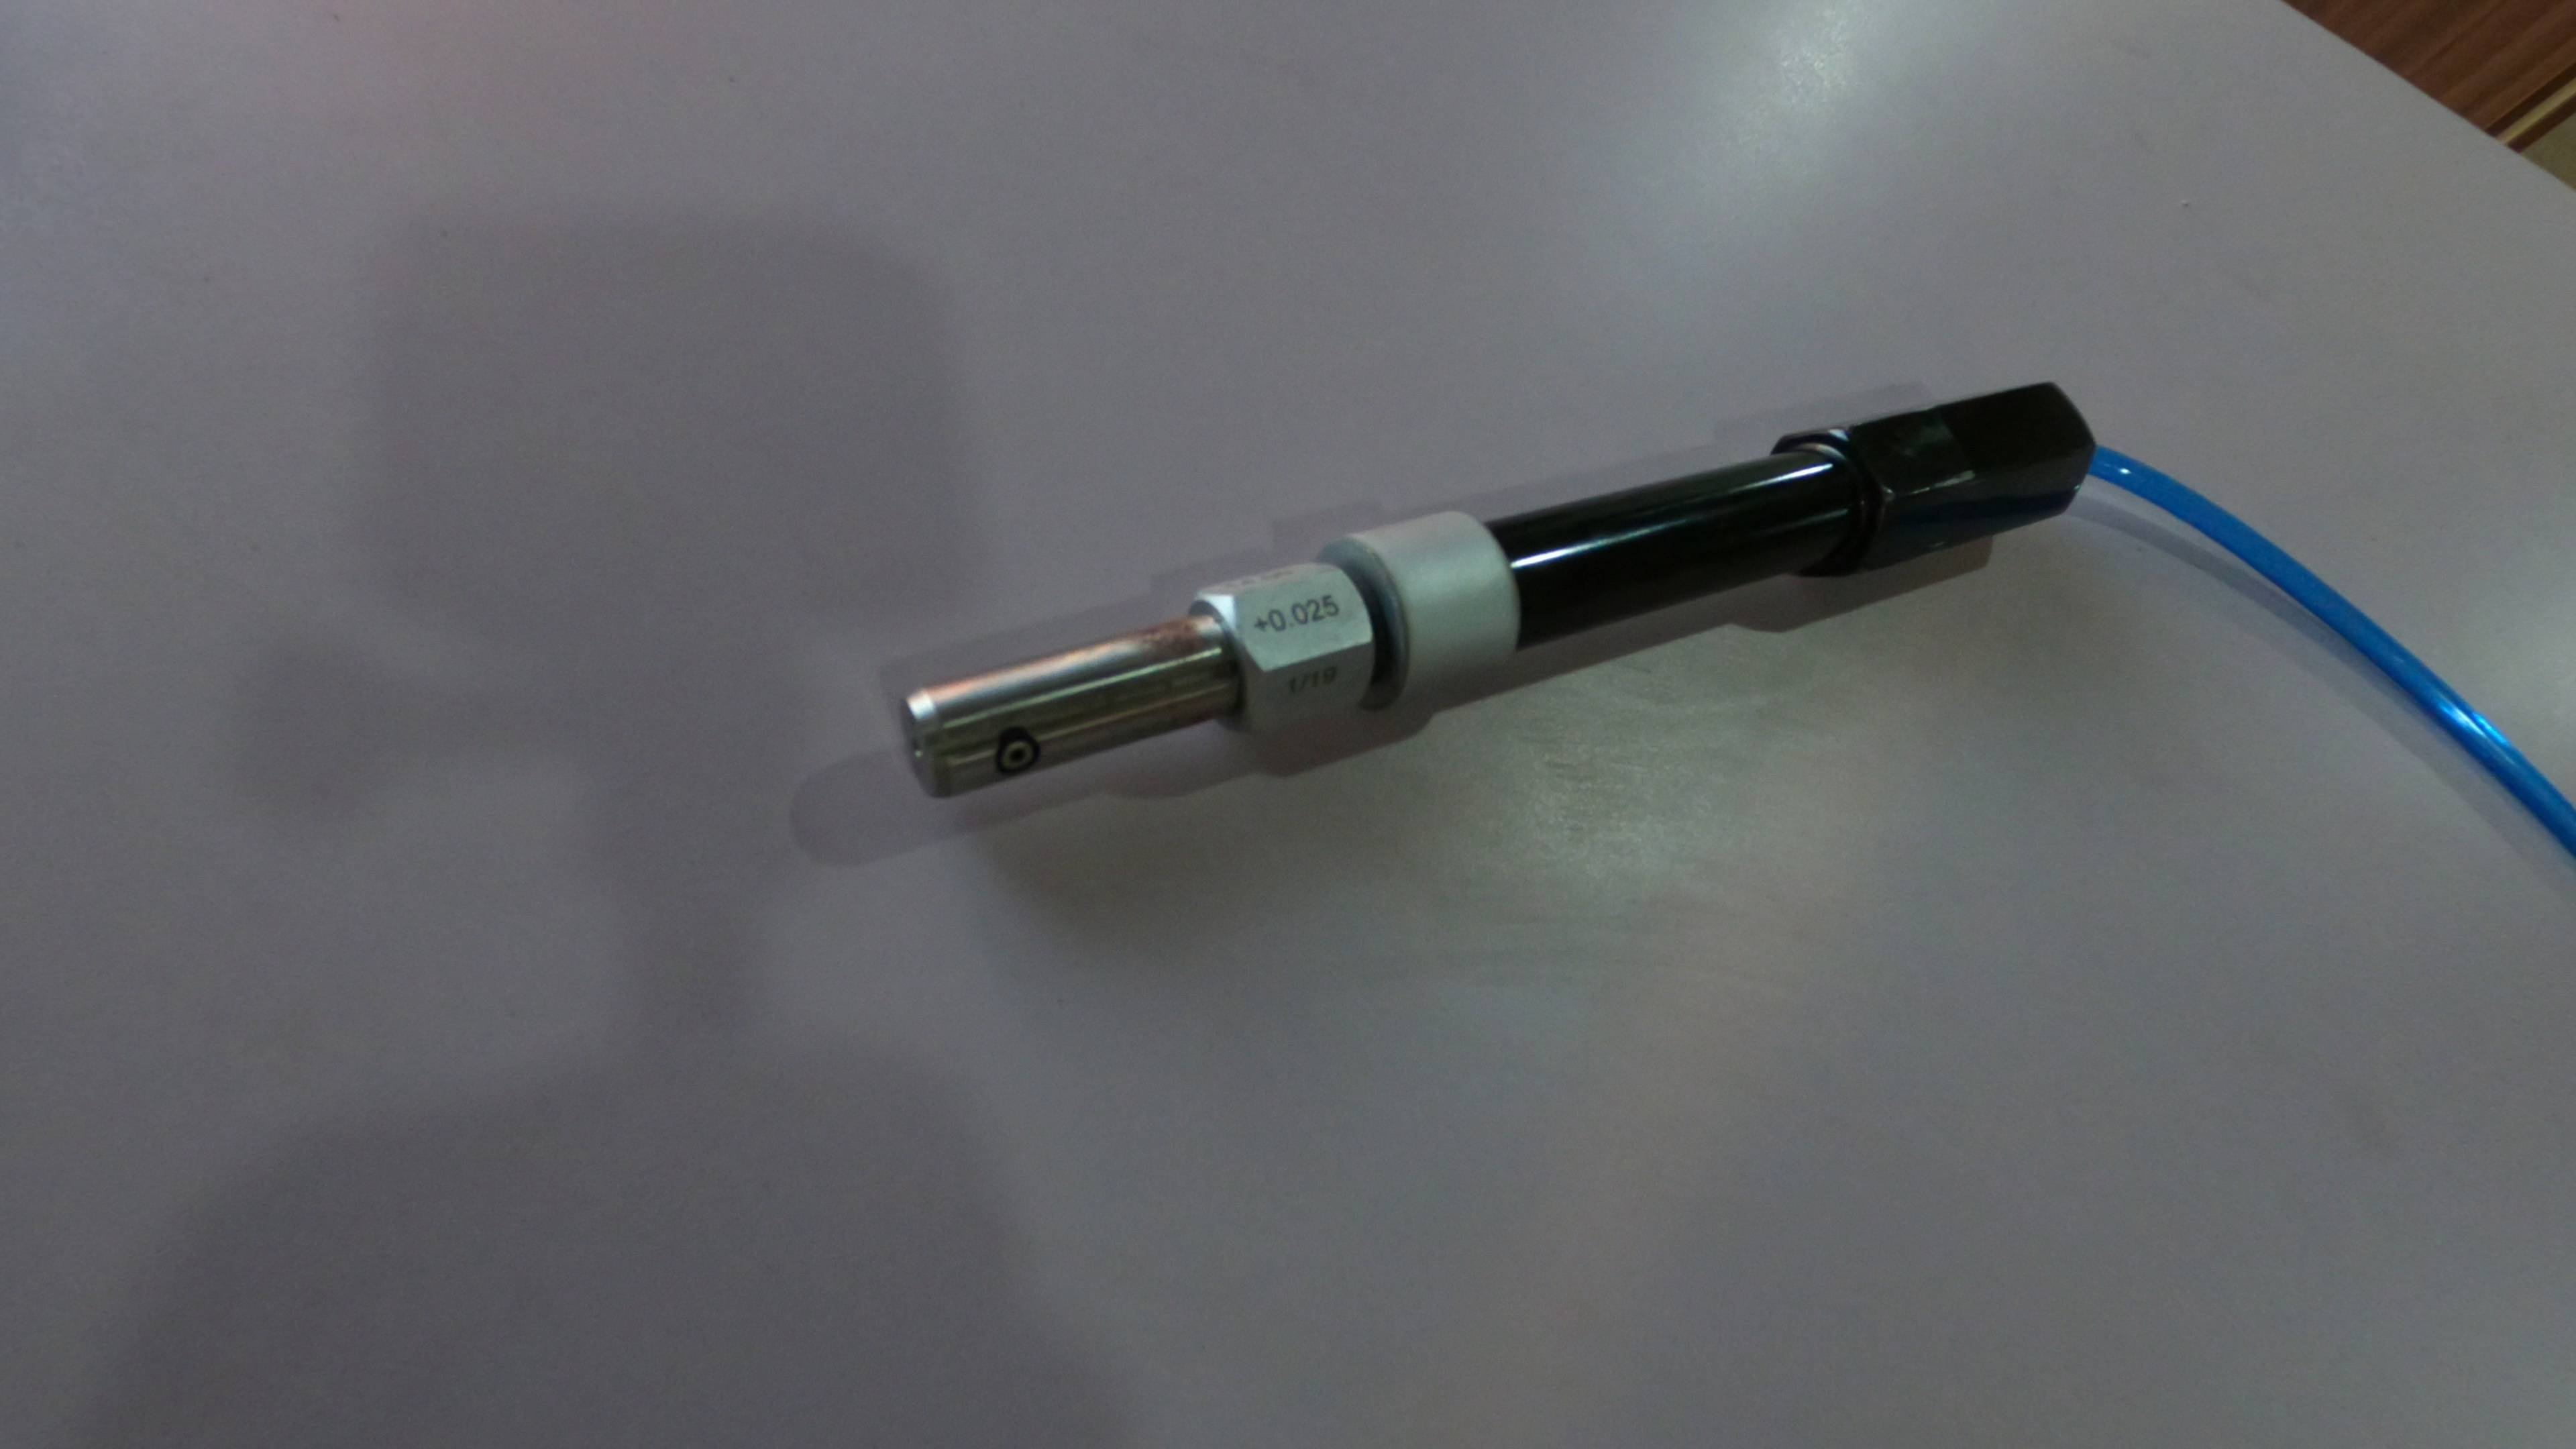air_gauge: (895, 372, 2097, 863)
